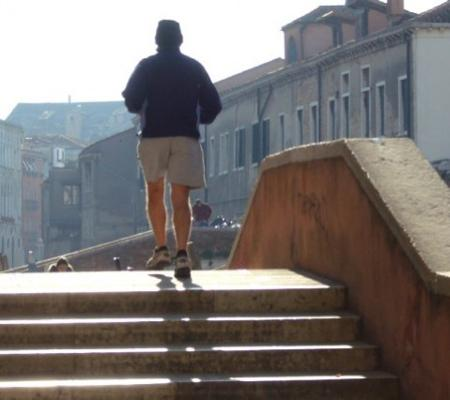person: (122, 18, 223, 281)
